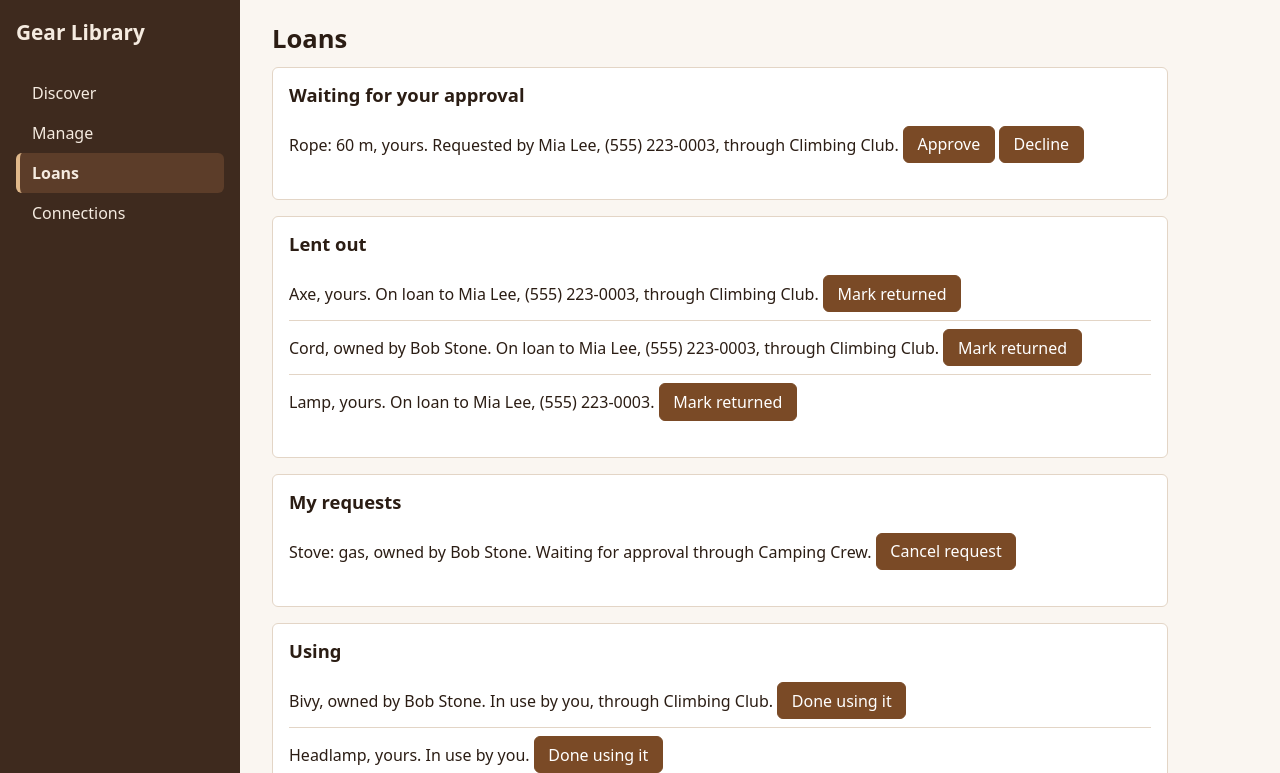
Scenario: waiting for your approval › shows why an answer was refused
Expected: the heading "Loans" is shown, [272, 21, 347, 56]
Click the button with aria-label "Approve: Rope": (949, 144) [903, 126, 995, 163]
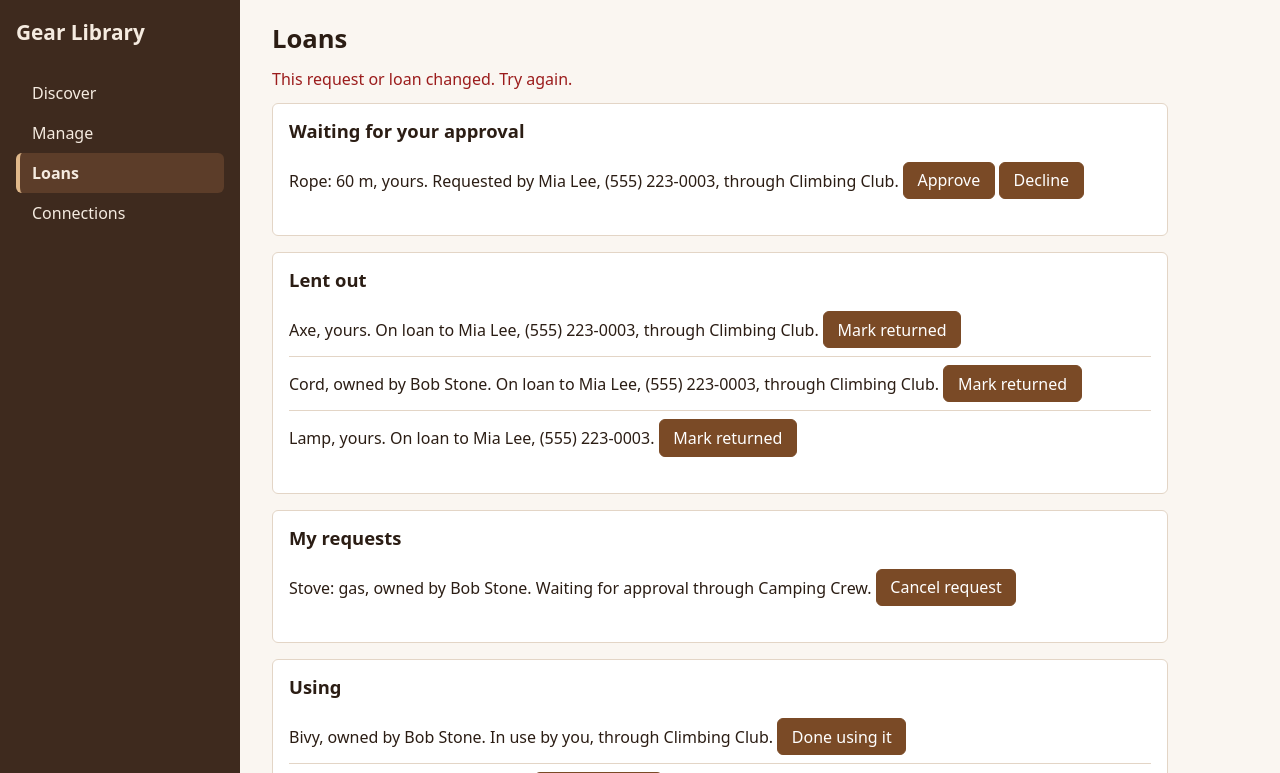
Result: the message reads "This request or loan changed. Try again." at [272, 68, 572, 90]
